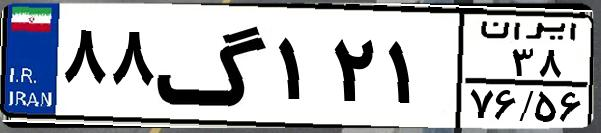1: (270, 28, 330, 110), (385, 28, 445, 110)
2: (330, 28, 385, 110)
3: (508, 27, 537, 80)
5: (535, 70, 560, 125)
6: (560, 70, 590, 125), (495, 70, 520, 125)
7: (470, 70, 495, 125)
8: (57, 26, 110, 100), (110, 28, 156, 98), (537, 27, 568, 80)
گ: (156, 12, 270, 120)
